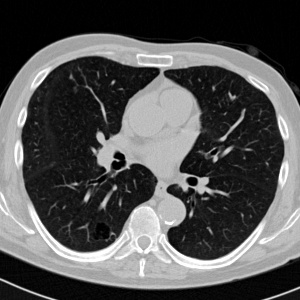PN: (69, 75, 73, 79)
